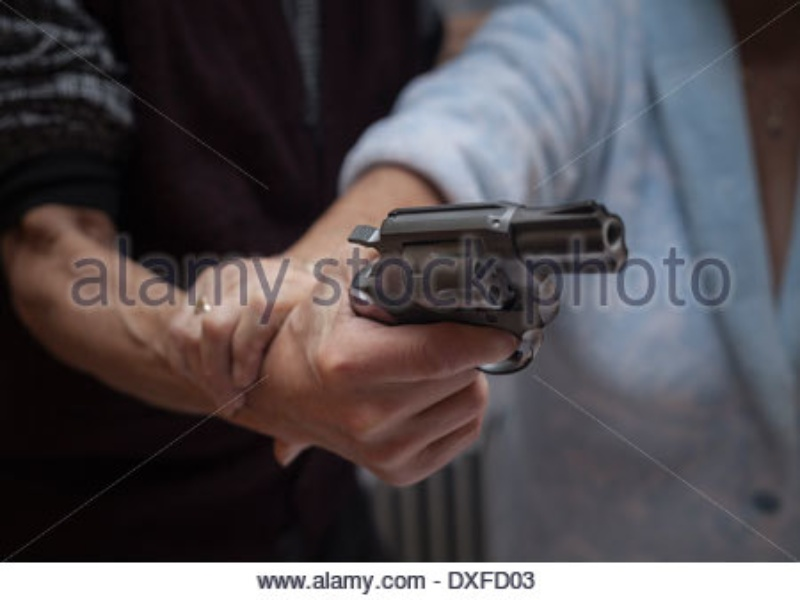gun: (321, 190, 632, 451)
